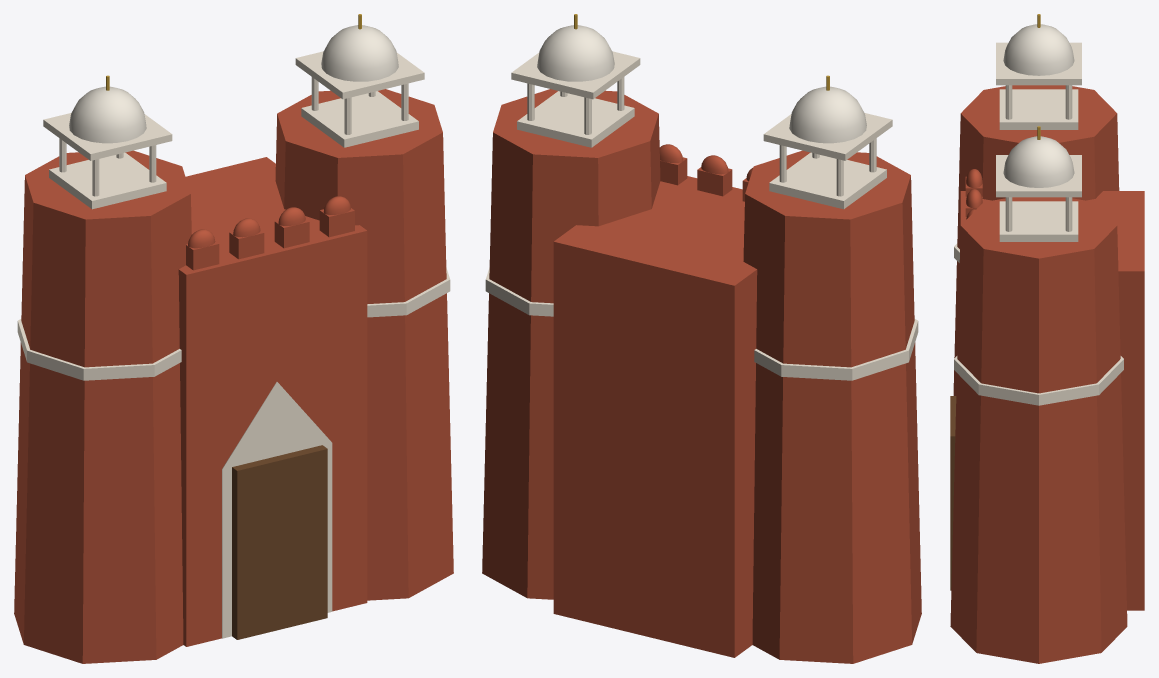
The model's file is gate.glb.
The picture shows the model from 3 angles, left to right: view 1: azimuth 30°, elevation 25°; view 2: azimuth 150°, elevation 25°; view 3: azimuth 270°, elevation 25°; orthographic projection. The views are drawn at different scales.
Parts seen in each view (by area): view 1: Gate; view 2: Gate; view 3: Gate.
Part boxes in pixels (left/top/right/bottom): Gate: left=14, top=14, right=453, bottom=663; Gate: left=482, top=14, right=921, bottom=663; Gate: left=950, top=14, right=1144, bottom=663.
Bounding box in the file's own units: 13 × 16.2 × 5.7.
